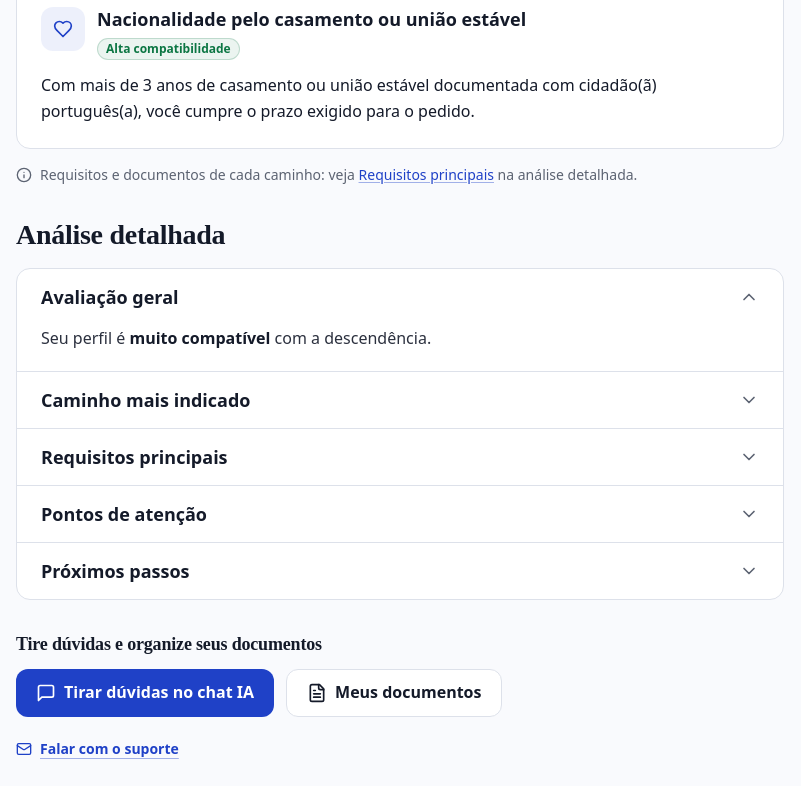
Test case: AnalysisPage — pagante › acordeão: a primeira seção abre, as outras ficam recolhidas e abrem ao tocar
(page scrolled)
Check: the text "A via de" is not shown
Click the button "Caminho mais indicado" at x=146, y=400, box [17,372,783,428]
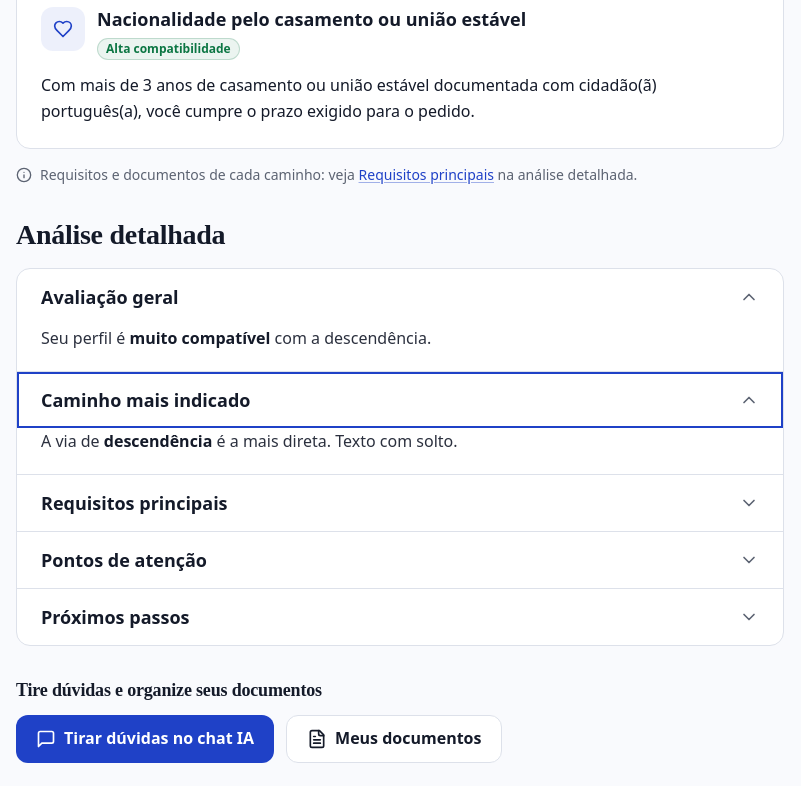
Check: the button "Caminho mais indicado" is expanded, box [17,372,783,428]
Check: the text "A via de descendência é a mais direta. Texto com solto." is shown, box [41,430,458,452]
